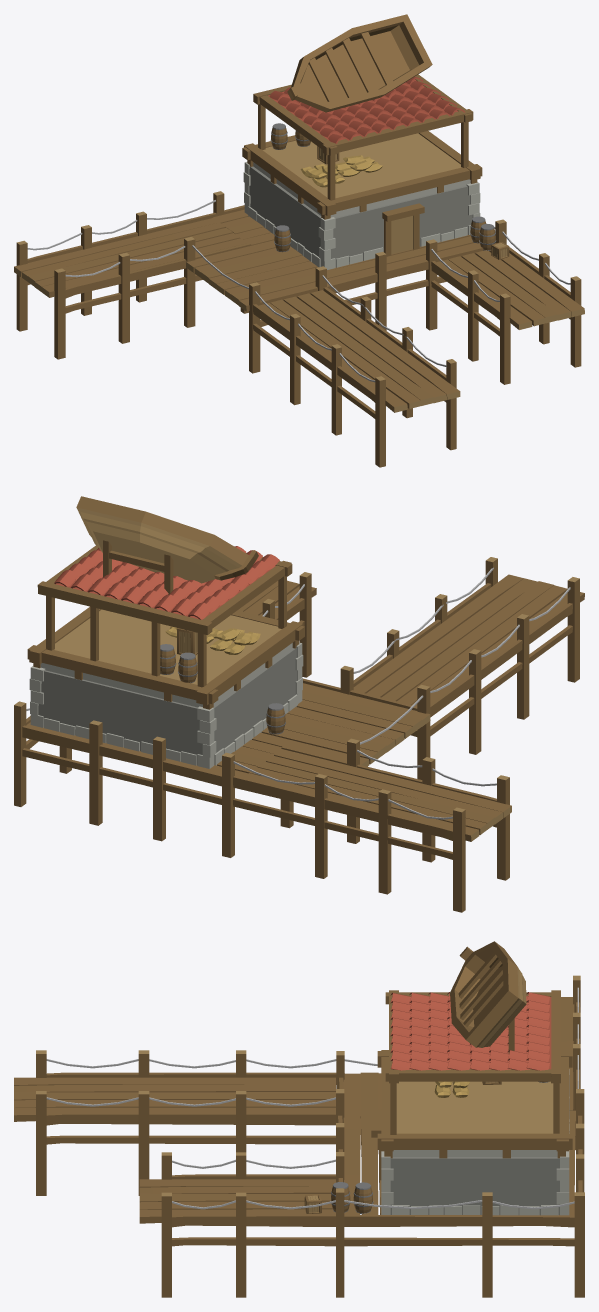
Rendered from Port_SecondAge_Level3.glb.
3 views of the same model, one above another, from view 1: azimuth 30°, elevation 25°; view 2: azimuth 150°, elevation 25°; view 3: azimuth 270°, elevation 25° (orthographic). The views are drawn at different scales.
Visible parts, largest first — view 1: Port_SecondAge_Level3; view 2: Port_SecondAge_Level3; view 3: Port_SecondAge_Level3.
Part boxes in pixels (left/top/right/bottom): Port_SecondAge_Level3: left=14, top=14, right=584, bottom=467; Port_SecondAge_Level3: left=14, top=496, right=584, bottom=912; Port_SecondAge_Level3: left=14, top=941, right=584, bottom=1297.
Size of the model in its own units: 2.66 by 1.63 by 2.88.
